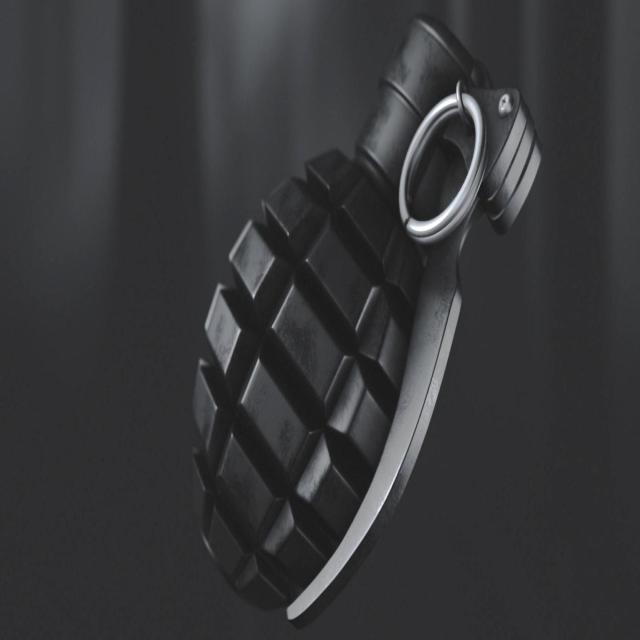grenade: (191, 15, 543, 623)
